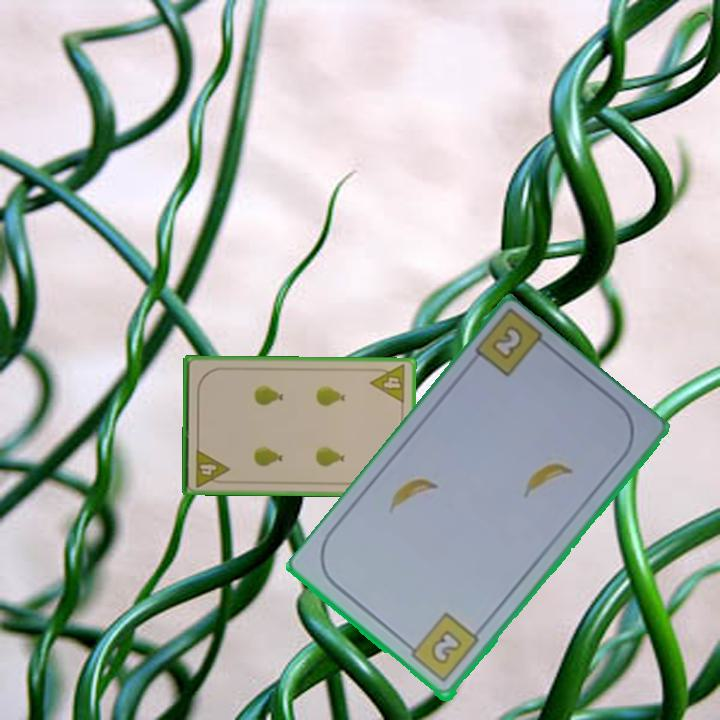2b: (401, 609, 482, 686), (488, 322, 527, 364)
4p: (367, 361, 409, 406), (192, 445, 231, 490)
